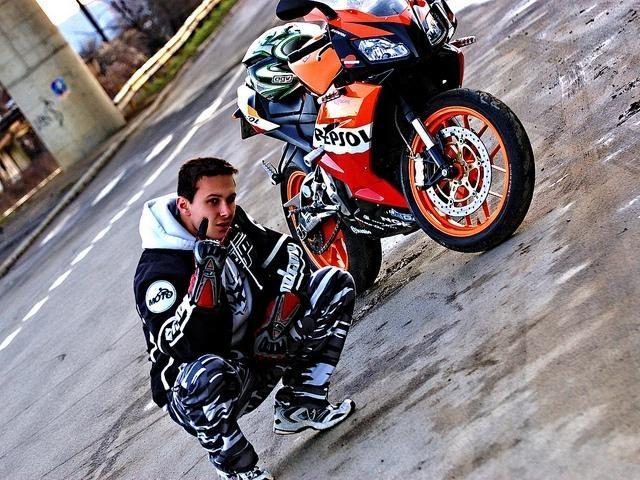motorcycle: (233, 1, 538, 287)
